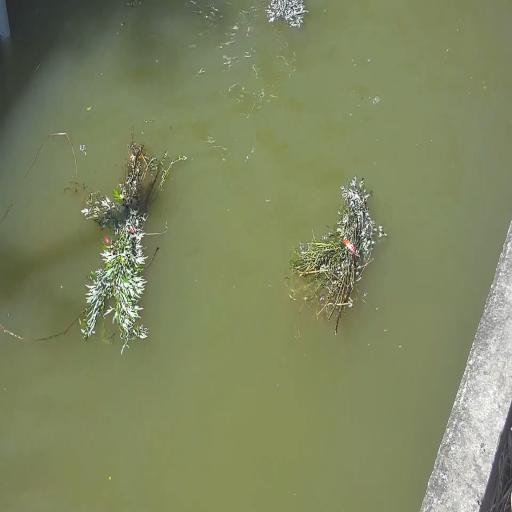twig: (74, 130, 182, 350), (288, 173, 385, 338), (265, 0, 306, 29)
